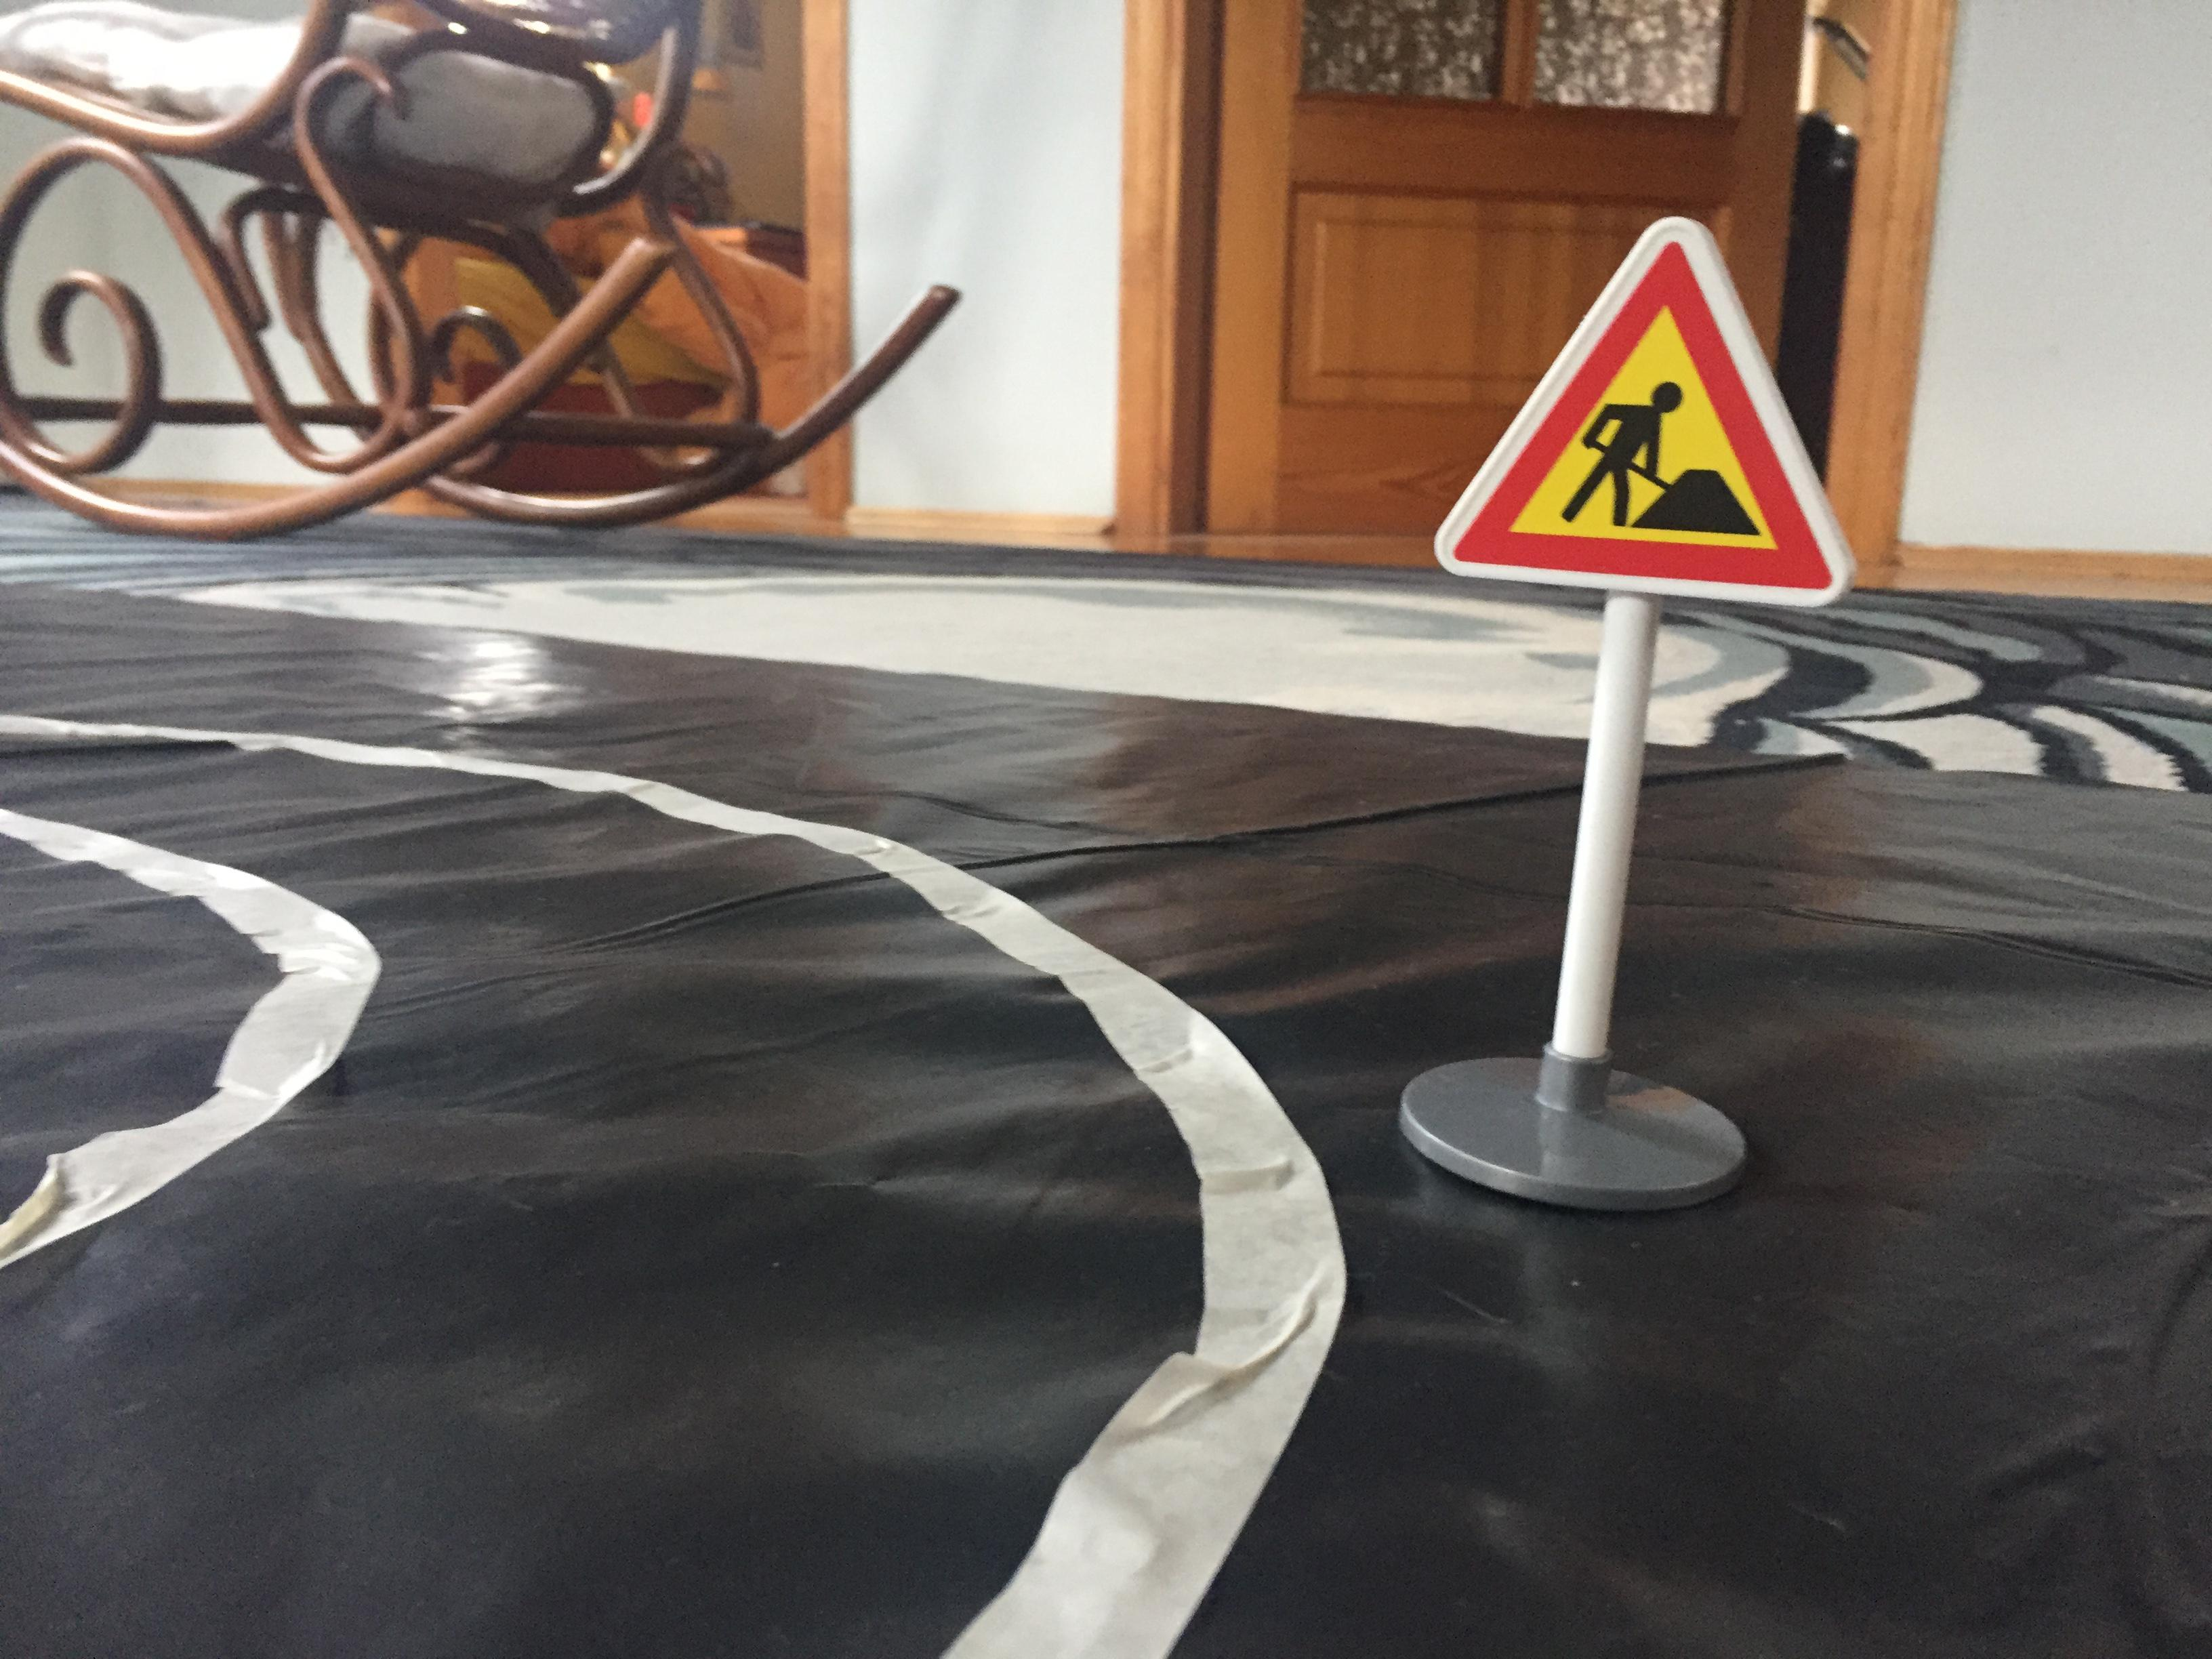work: (1414, 199, 1874, 622)
